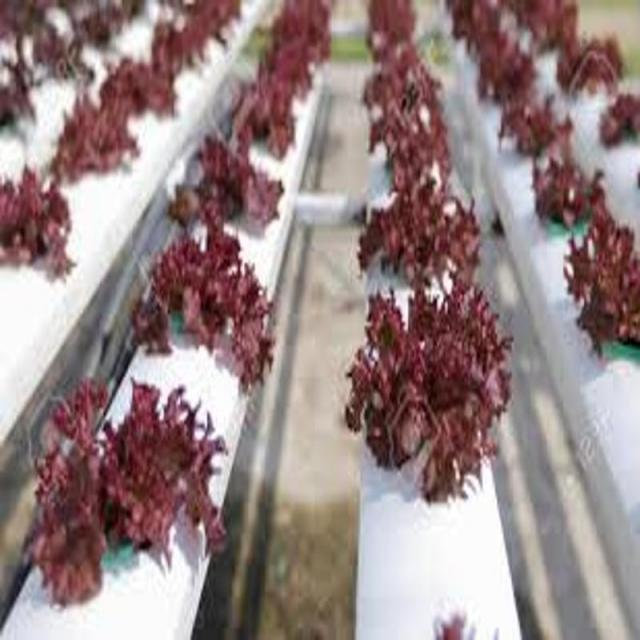Lettuce: (25, 380, 237, 612), (345, 278, 522, 512), (116, 208, 276, 388), (345, 170, 495, 290), (168, 125, 285, 238), (561, 218, 640, 364), (0, 165, 88, 280), (47, 84, 143, 184), (362, 96, 463, 186), (522, 138, 612, 234), (222, 70, 302, 162), (562, 27, 632, 105), (502, 88, 572, 148), (605, 85, 640, 150)
